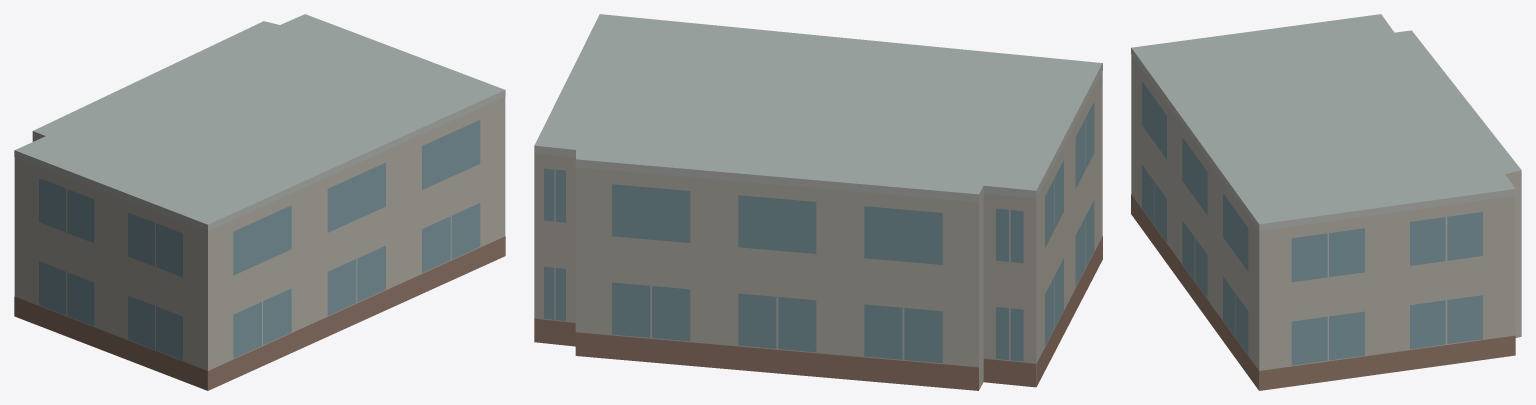
File: survey-upis-32956806.glb
The picture shows the model from 3 angles, left to right: view 1: azimuth 30°, elevation 25°; view 2: azimuth 150°, elevation 25°; view 3: azimuth 270°, elevation 25°; orthographic projection. The views are drawn at different scales.
Visible parts, largest first — view 1: survey-upis-32956806.tmp; view 2: survey-upis-32956806.tmp; view 3: survey-upis-32956806.tmp.
Part boxes in pixels (x1,y1,x2,y2): survey-upis-32956806.tmp: [14, 14, 505, 390]; survey-upis-32956806.tmp: [534, 14, 1102, 390]; survey-upis-32956806.tmp: [1131, 14, 1521, 390].
Size of the model in its own units: 16.53 by 6.1 by 12.97.
